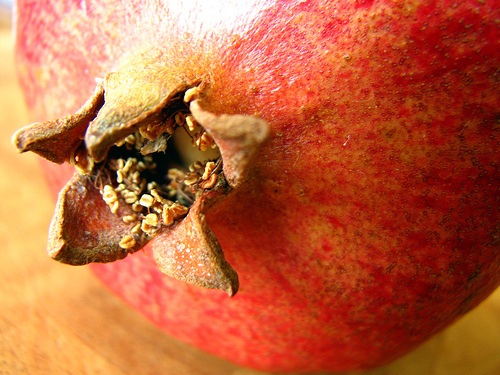pomogranate: (7, 0, 498, 374)
